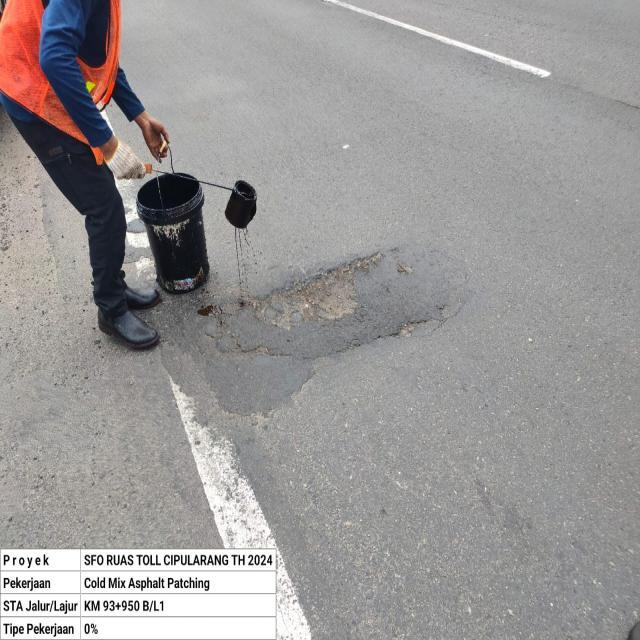Buraco: (234, 249, 388, 336)
